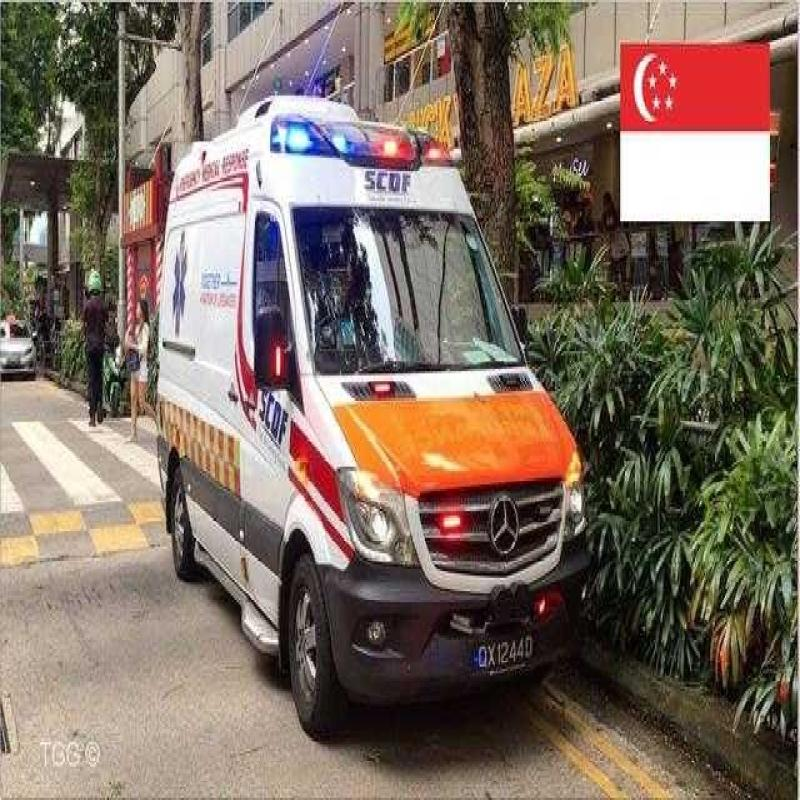AmbulanceSiren: (276, 82, 437, 174)
